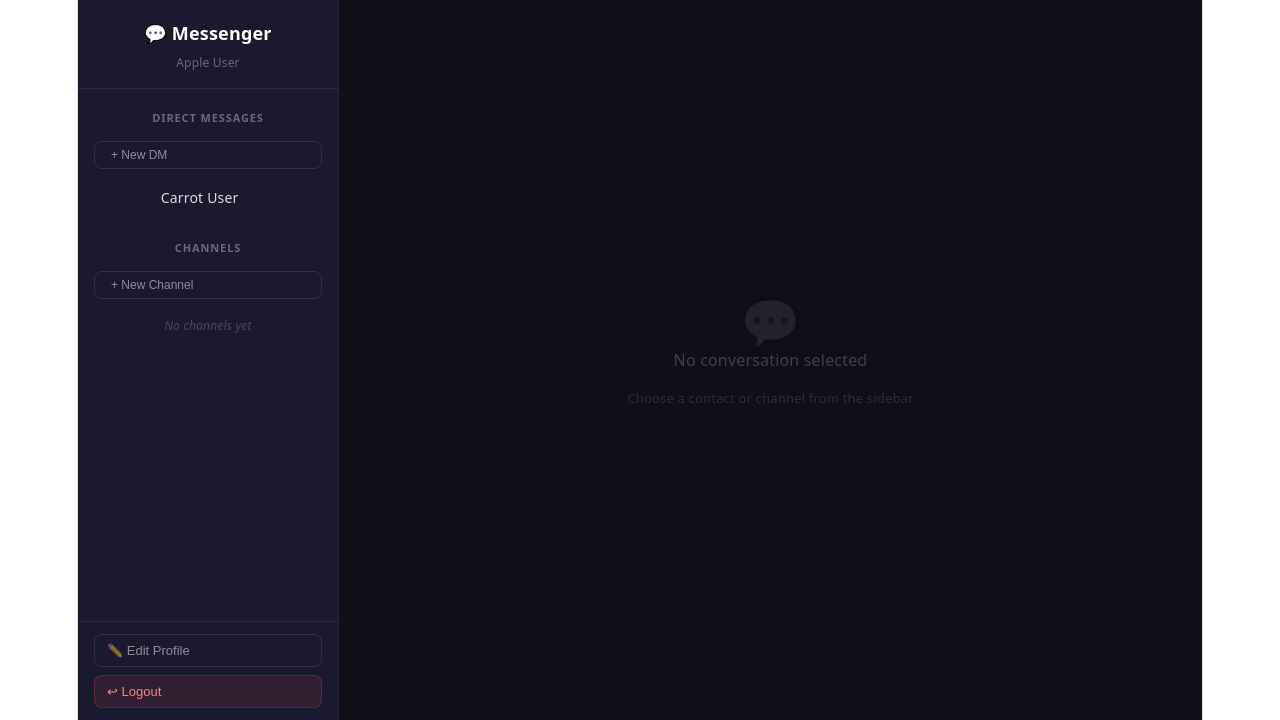
Security Tests › XSS: script tag in message is rendered as plain text, not executed
The width and height of the screenshot is (1280, 720).
Click the text "Carrot User" at (200, 198), box [161,188,239,207]
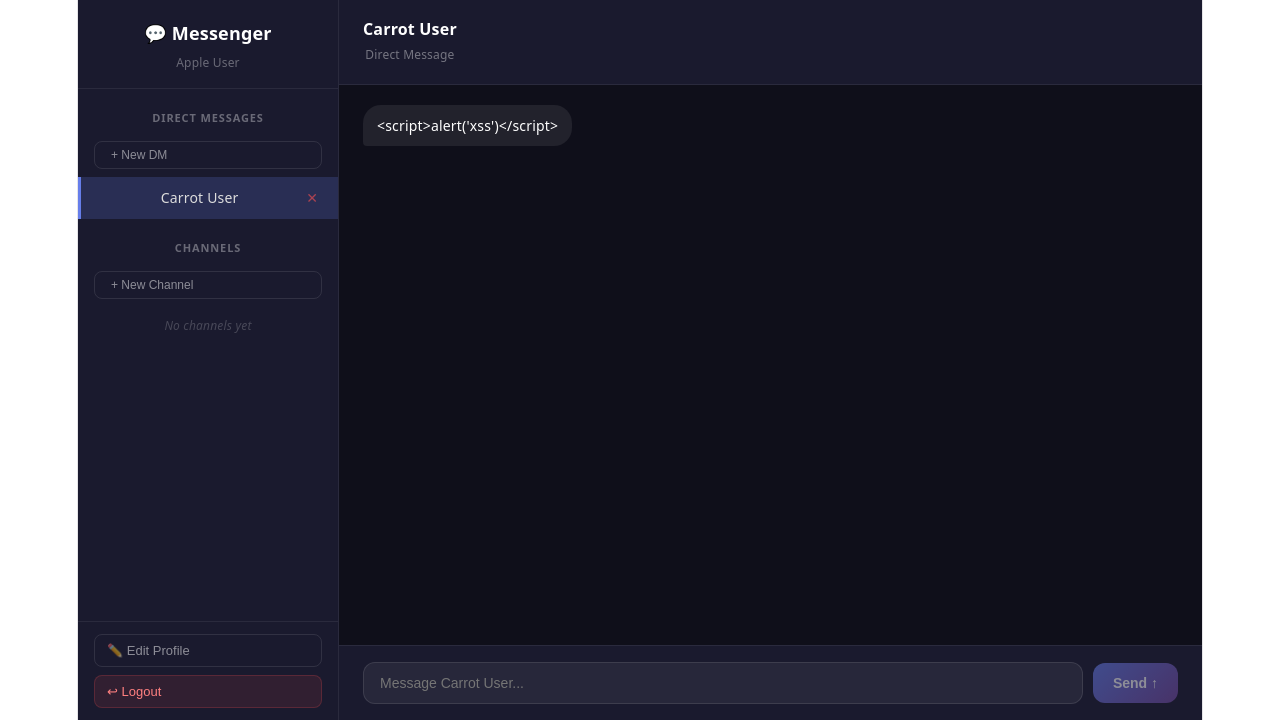
Expected: the text "<script>alert('xss')</script>" is shown, [363,105,572,146]
